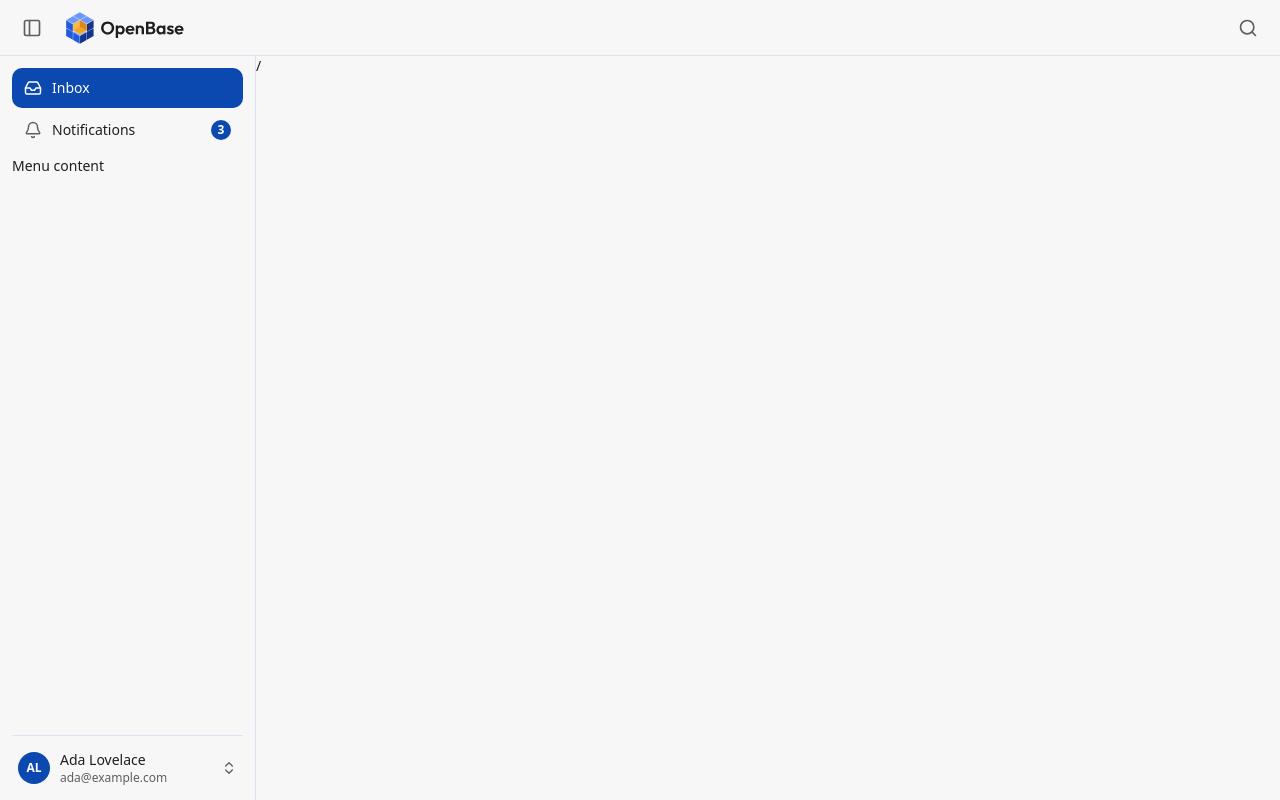
Scenario: Notifications in the docked menu › is the menu's second row (below the Inbox link), with the unread count, and lists each kind beside the menu
The width and height of the screenshot is (1280, 800).
Expected: the text with test id "notifications-badge" reads "3", left=218, top=121, right=224, bottom=138
Click the button with aria-label "Notifications, 3 unread" at (128, 130), box left=12, top=110, right=243, bottom=150
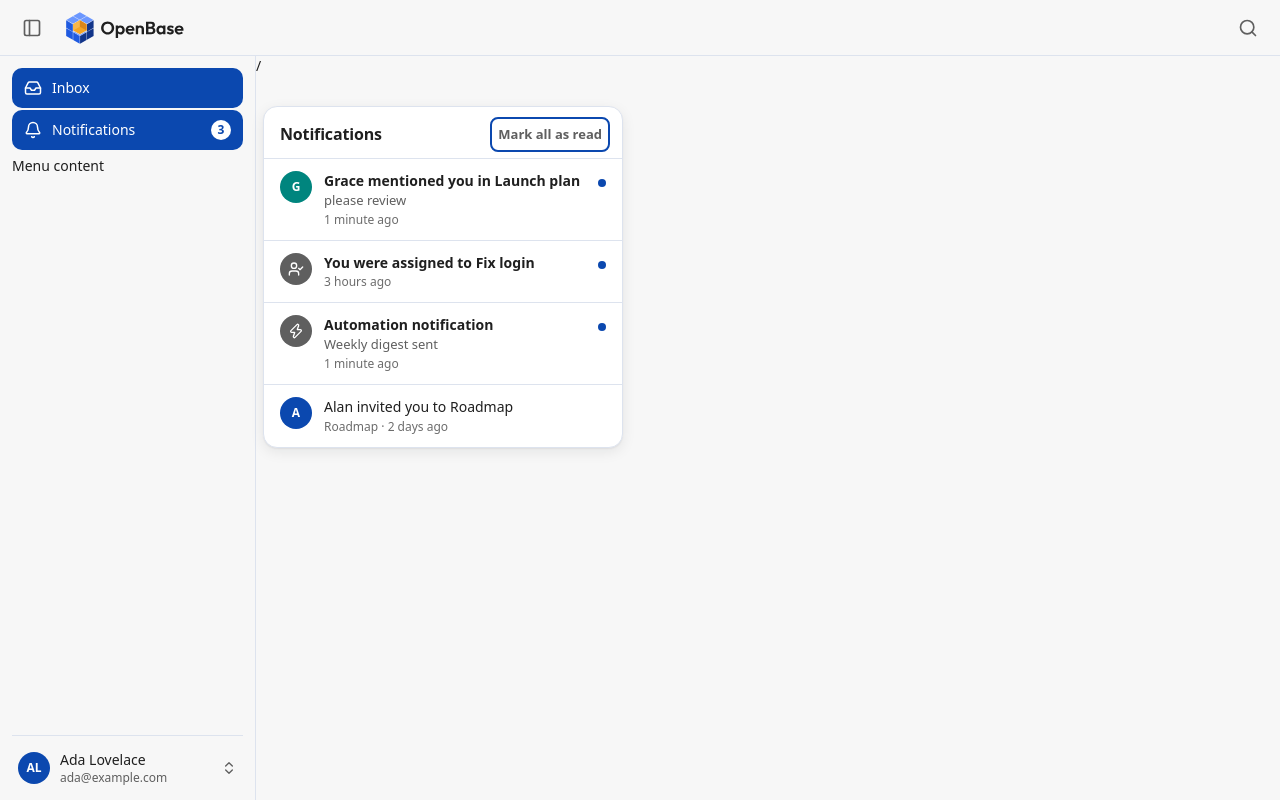
Result: the button with aria-label "Notifications, 3 unread" is expanded at left=12, top=110, right=243, bottom=150
Result: the heading "Notifications" is shown at left=280, top=123, right=382, bottom=146
Result: the text "Grace mentioned you in Launch plan" is shown at left=324, top=171, right=582, bottom=190
